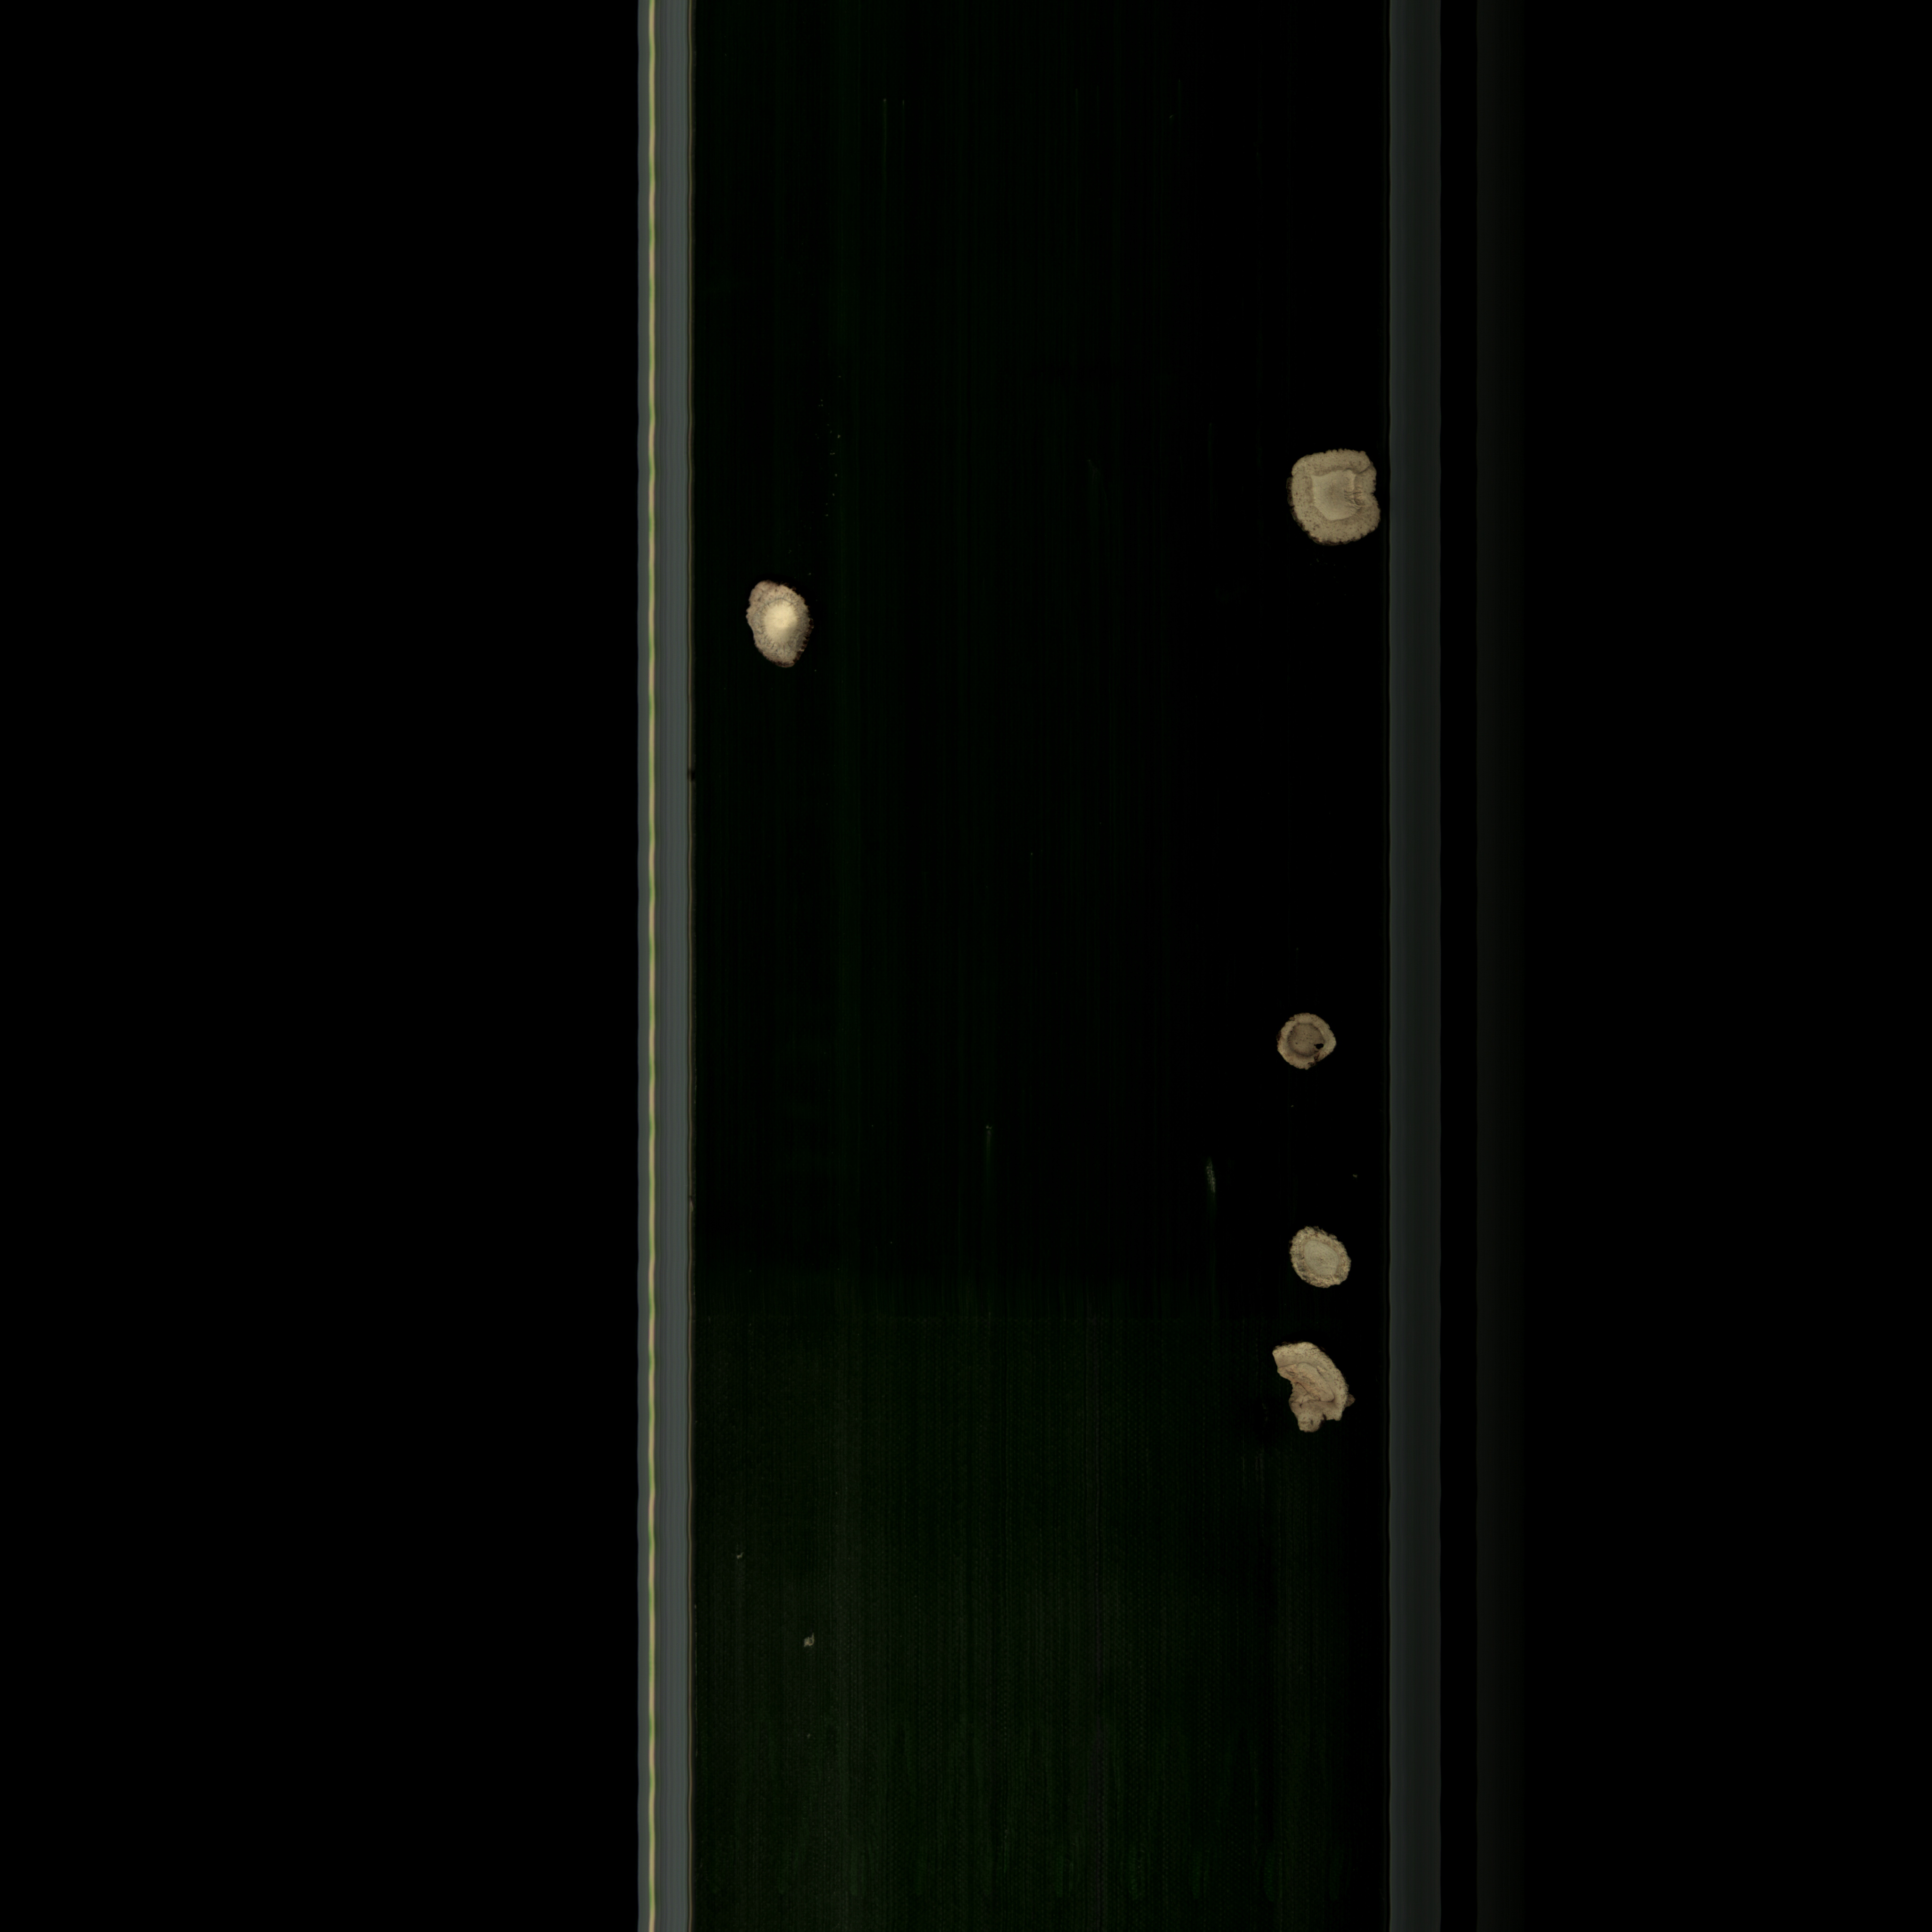dreg: (803, 1629, 828, 1652)
moldy: (1277, 448, 1392, 556), (1267, 1338, 1361, 1438), (741, 571, 819, 678), (1283, 1219, 1357, 1295), (1267, 1007, 1345, 1077)
